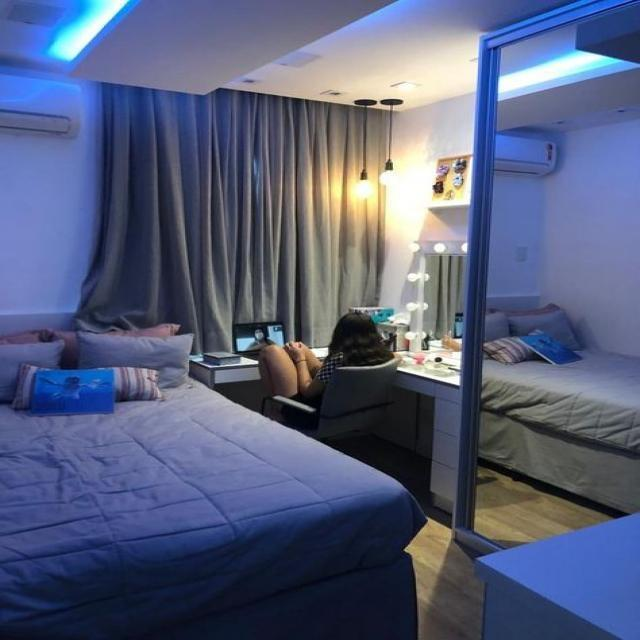AC: (0, 72, 81, 139)
